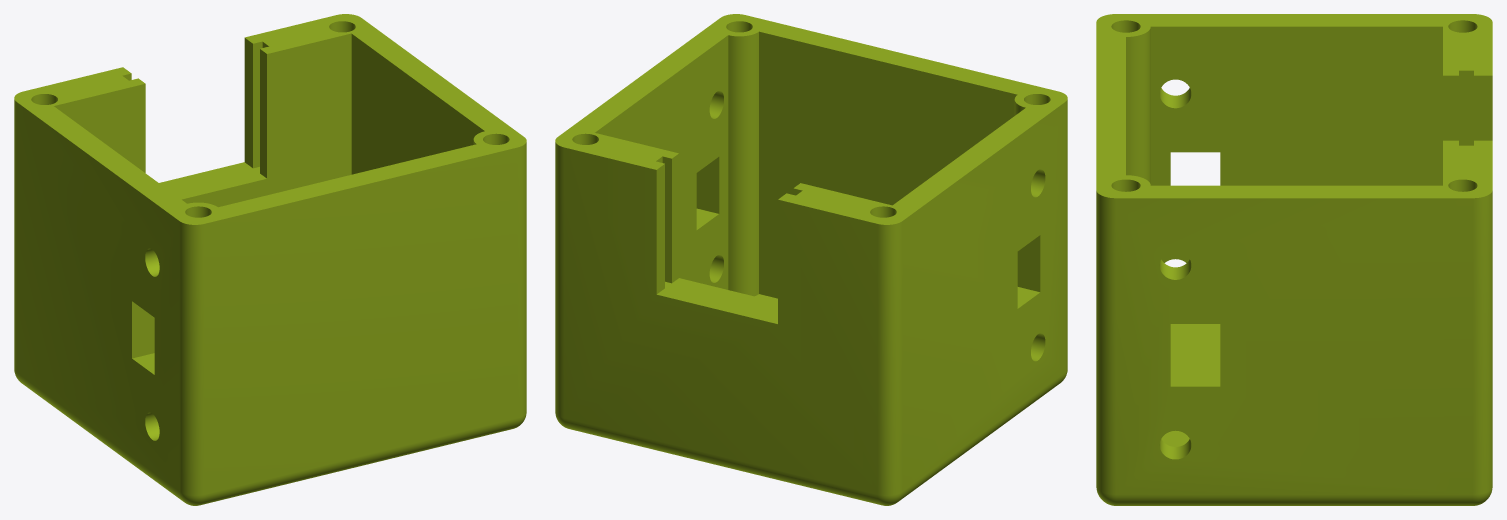
The model's file is servilinerj.obj.
3 views of the same model, side by side, from view 1: azimuth 30°, elevation 25°; view 2: azimuth 150°, elevation 25°; view 3: azimuth 270°, elevation 25° (orthographic). The views are drawn at different scales.
Parts seen in each view (by area): view 1: serviLiveRJ; view 2: serviLiveRJ; view 3: serviLiveRJ.
Part boxes in pixels (left/top/right/bottom): serviLiveRJ: left=14, top=14, right=526, bottom=505; serviLiveRJ: left=555, top=14, right=1067, bottom=505; serviLiveRJ: left=1096, top=14, right=1492, bottom=505.
Bounding box in the file's own units: 44 × 35 × 40.
